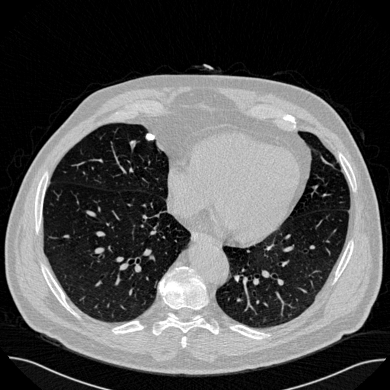nodule: (146, 133, 154, 141)
